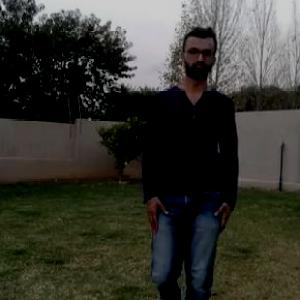follow: (153, 36, 231, 299)
